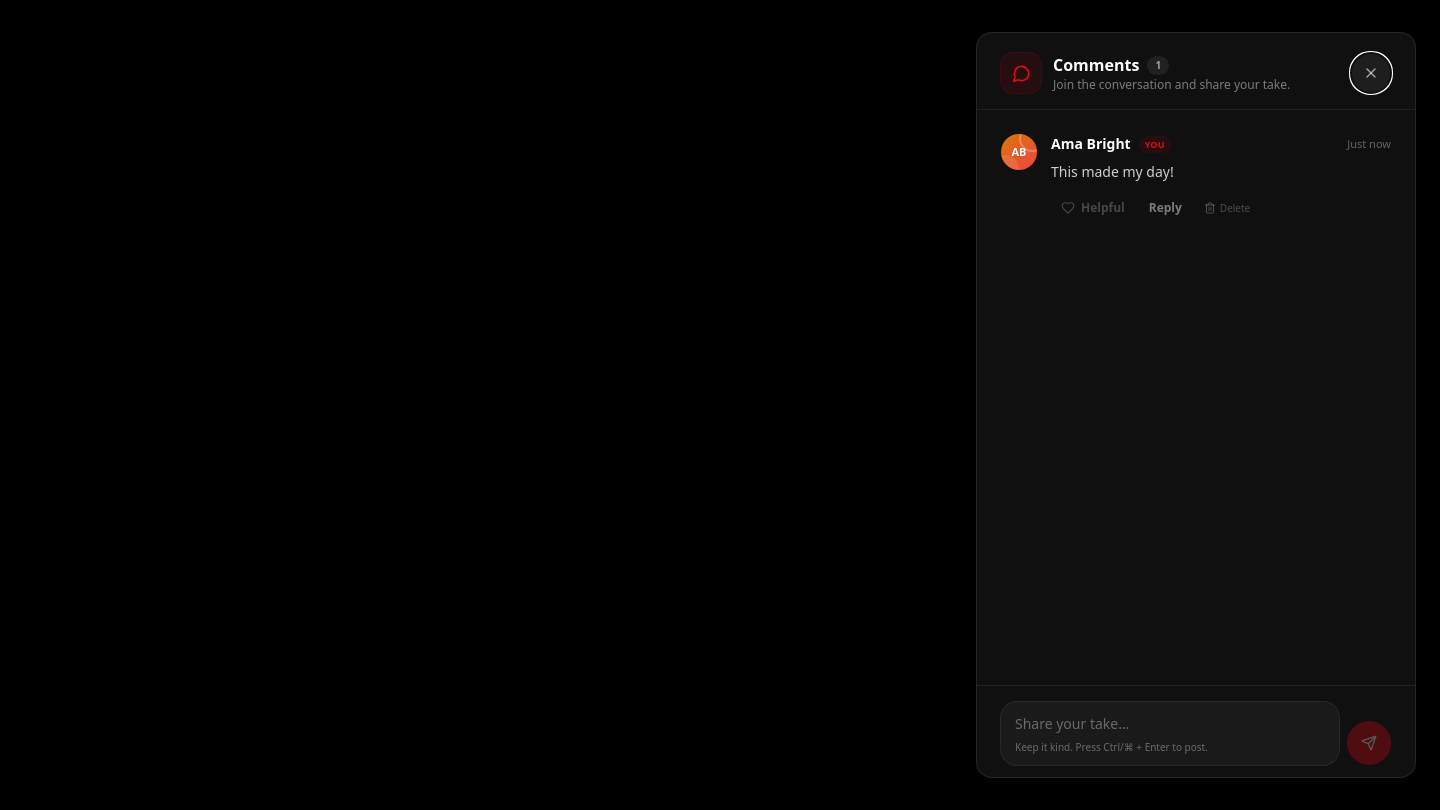
CommentsSheet › asks before deleting an owned comment
This screenshot has width=1440, height=810.
Later steps or results of the test are not shown.
Expected: the text "Ama Bright" is shown, [1051,134,1131,154]
Click the button with aria-label "Delete comment" at (1227, 208), box [1196,196,1258,220]
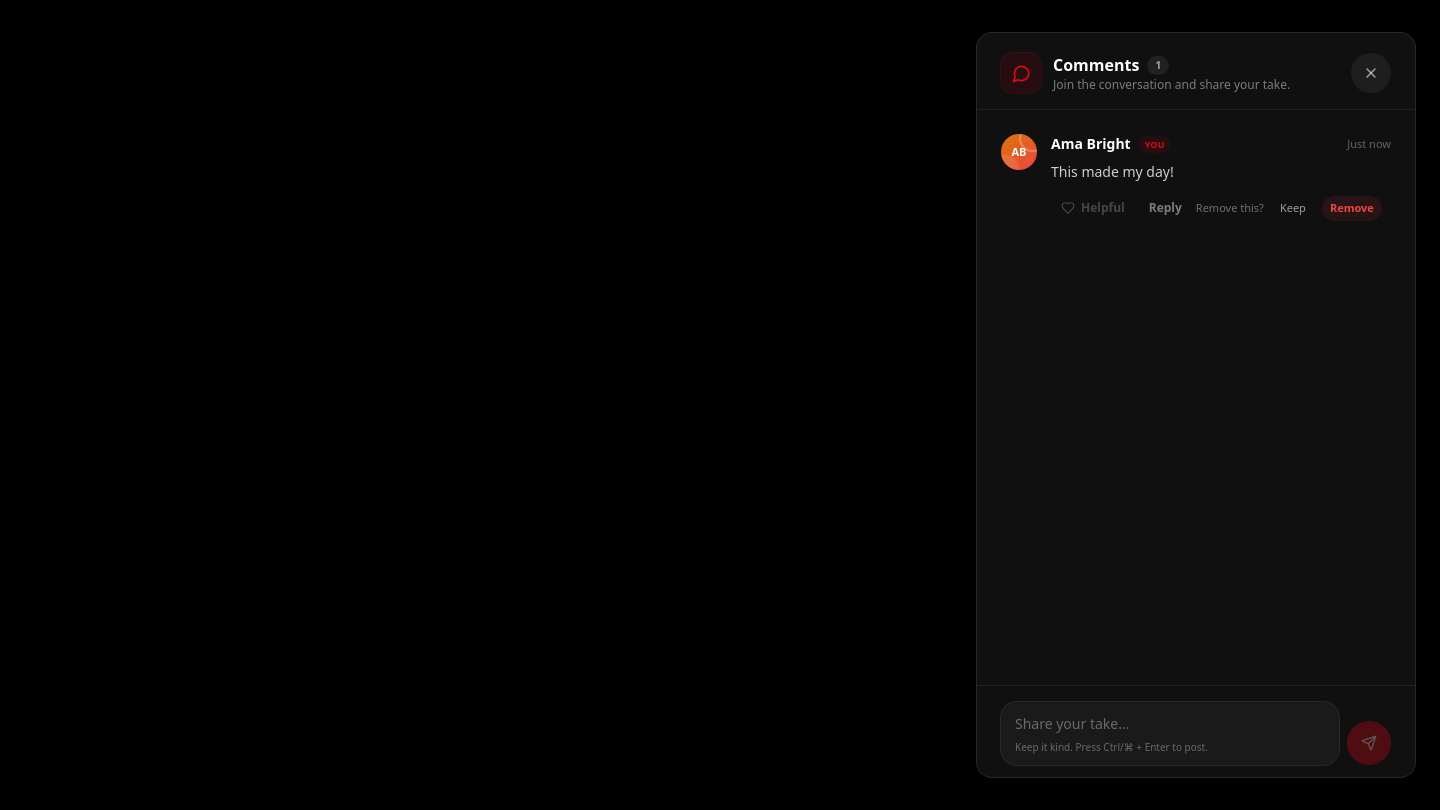
Expected: the text "Remove this?" is shown, [1196,200,1264,217]
